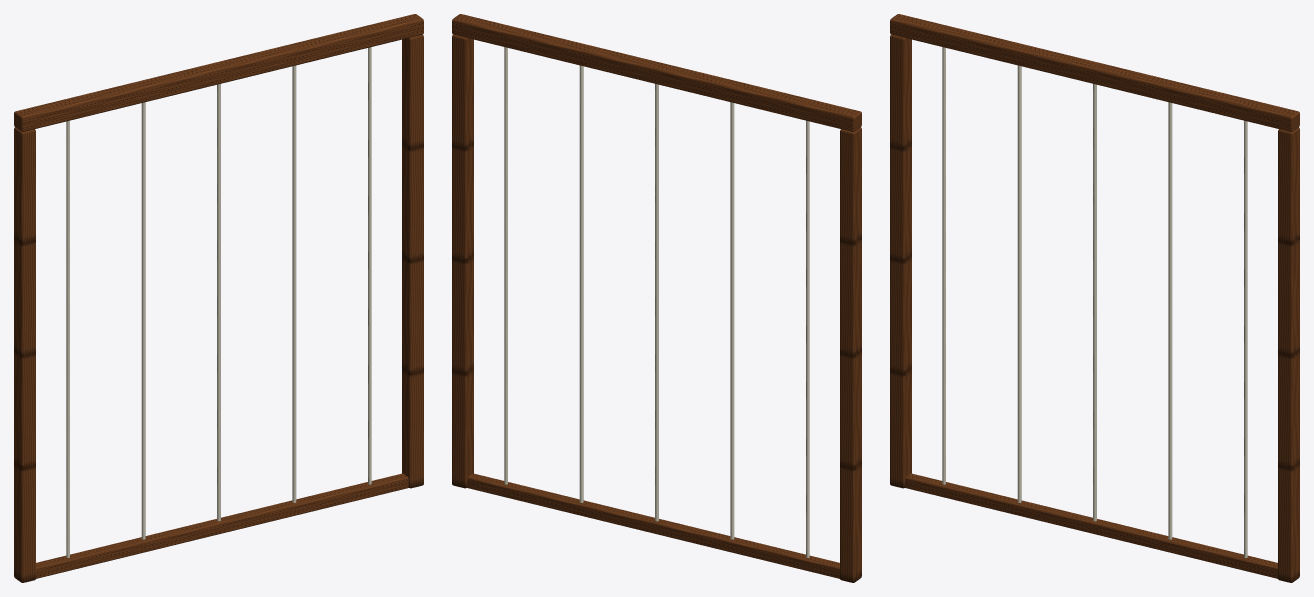
The model's file is survival-greenhouse-and-irrigation-climbing-string-fra-d22bc4db__21318.glb.
The picture shows the model from 3 angles, left to right: view 1: azimuth 30°, elevation 25°; view 2: azimuth 150°, elevation 25°; view 3: azimuth 330°, elevation 25°; orthographic projection.
Parts seen in each view (by area): view 1: climbing-string-frame; view 2: climbing-string-frame; view 3: climbing-string-frame.
Boxes of the visible parts, left/top/right/bottom form: climbing-string-frame: left=14, top=14, right=423, bottom=582; climbing-string-frame: left=452, top=14, right=861, bottom=582; climbing-string-frame: left=890, top=14, right=1299, bottom=582.
Bounding box in the file's own units: 1.87 × 2.07 × 0.07.
2 materials, 1 textured.
